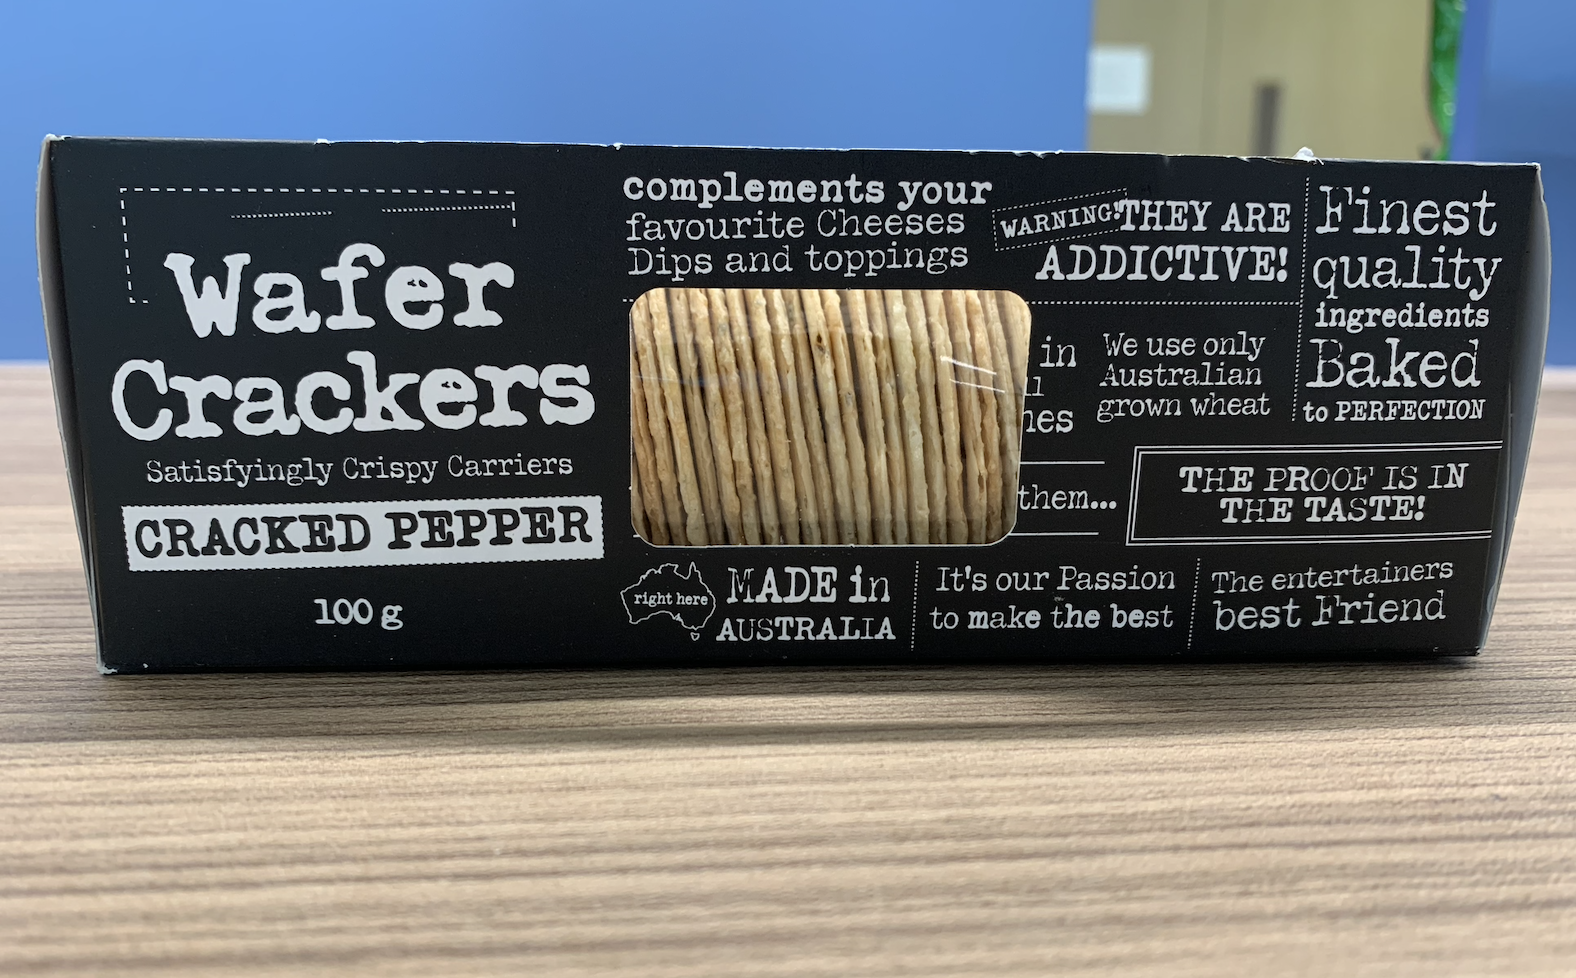crackers_100g-199g: (98, 157, 1492, 642)
